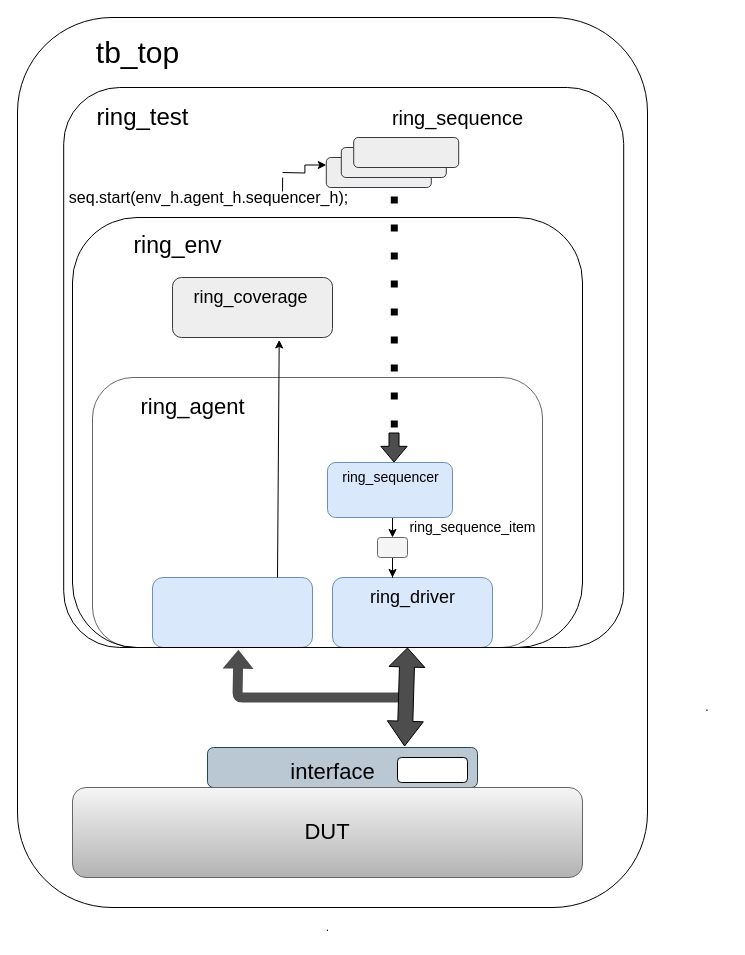
Image size: 745x955. Some labels were removed from this diagram. Here are the shapes that lost their labels. From the top down, the box of each, then its label:
(152, 576, 312, 648): ring_monitor
(396, 756, 468, 782): Assertion
